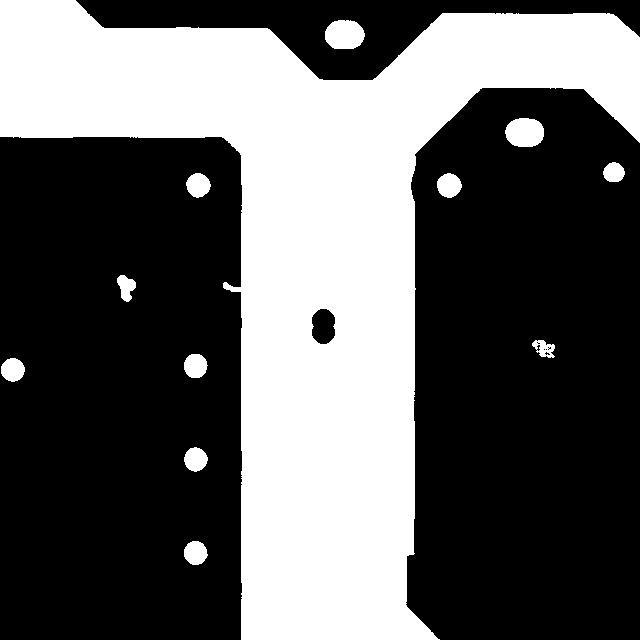copper: (302, 299, 344, 353)
mousebite: (213, 272, 253, 301)
pin-hole: (107, 265, 145, 311), (522, 330, 564, 367)
